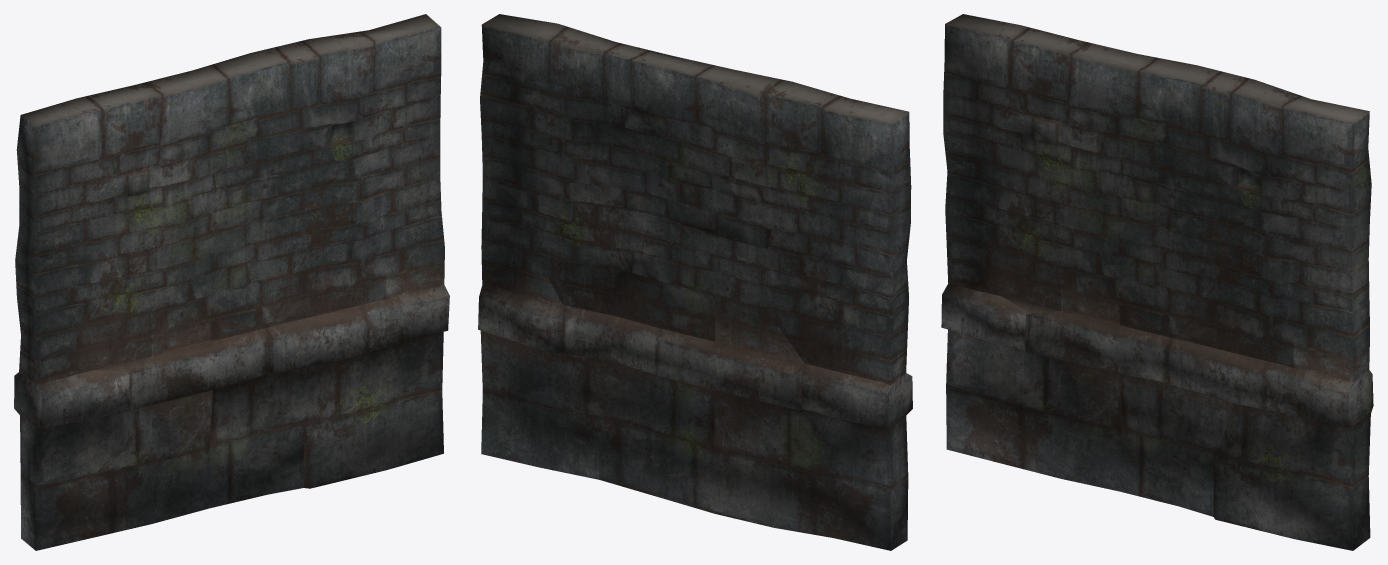
Rendered from wall_stone_03_Mesh.FBX.
3 renders of one model, left to right at view 1: azimuth 30°, elevation 25°; view 2: azimuth 150°, elevation 25°; view 3: azimuth 330°, elevation 25°, orthographic.
Visible parts, largest first — view 1: wall_stone_03_02, wall_stone_03_01, wall_stone_03_10, wall_stone_03_07, wall_stone_03_04, wall_stone_03_08, wall_stone_03_06, wall_stone_03_05, wall_stone_03_03, wall_stone_03_09; view 2: wall_stone_03_02, wall_stone_03_01, wall_stone_03_10, wall_stone_03_07, wall_stone_03_04, wall_stone_03_08, wall_stone_03_06, wall_stone_03_05, wall_stone_03_03, wall_stone_03_09; view 3: wall_stone_03_01, wall_stone_03_02, wall_stone_03_07, wall_stone_03_10, wall_stone_03_04, wall_stone_03_08, wall_stone_03_06, wall_stone_03_05, wall_stone_03_03, wall_stone_03_09.
Part boxes in pixels (x1,y1,x2,y2): wall_stone_03_02: [15, 53, 268, 310]; wall_stone_03_01: [210, 14, 441, 217]; wall_stone_03_10: [14, 370, 213, 550]; wall_stone_03_07: [303, 248, 449, 488]; wall_stone_03_04: [269, 151, 444, 326]; wall_stone_03_08: [209, 313, 333, 508]; wall_stone_03_06: [17, 246, 153, 384]; wall_stone_03_05: [152, 217, 270, 341]; wall_stone_03_03: [152, 144, 270, 245]; wall_stone_03_09: [129, 305, 216, 410]; wall_stone_03_02: [655, 56, 911, 310]; wall_stone_03_01: [480, 14, 716, 215]; wall_stone_03_10: [714, 363, 912, 550]; wall_stone_03_07: [478, 247, 615, 479]; wall_stone_03_04: [481, 151, 662, 327]; wall_stone_03_08: [597, 316, 714, 513]; wall_stone_03_06: [769, 229, 908, 384]; wall_stone_03_05: [656, 215, 774, 341]; wall_stone_03_03: [657, 139, 796, 248]; wall_stone_03_09: [709, 305, 804, 409]; wall_stone_03_01: [1118, 65, 1371, 269]; wall_stone_03_02: [943, 14, 1196, 223]; wall_stone_03_07: [1213, 332, 1373, 550]; wall_stone_03_10: [941, 283, 1121, 491]; wall_stone_03_04: [1175, 206, 1369, 367]; wall_stone_03_08: [1113, 325, 1234, 516]; wall_stone_03_06: [945, 186, 1061, 313]; wall_stone_03_05: [1060, 201, 1177, 338]; wall_stone_03_03: [1060, 121, 1176, 229]; wall_stone_03_09: [1025, 274, 1119, 372].
Size of the model in its own units: 201 by 202 by 27.2.
